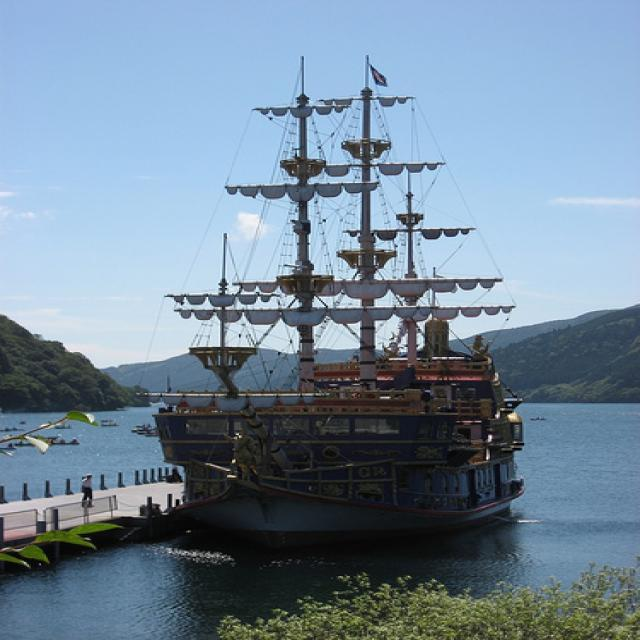Ship: (113, 52, 527, 534)
